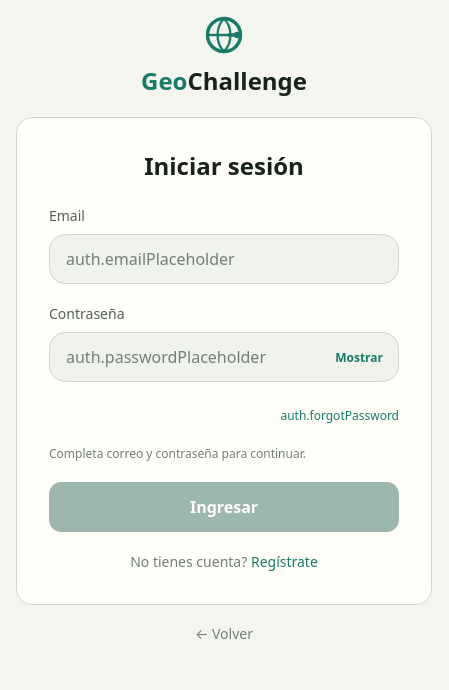
Test: LoginPage › limpia el mensaje de error cuando el usuario corrige un campo
This screenshot has width=449, height=690.
Type "test@example.com" into the field labelled "Email" at (224, 259), box [49,234,399,284]
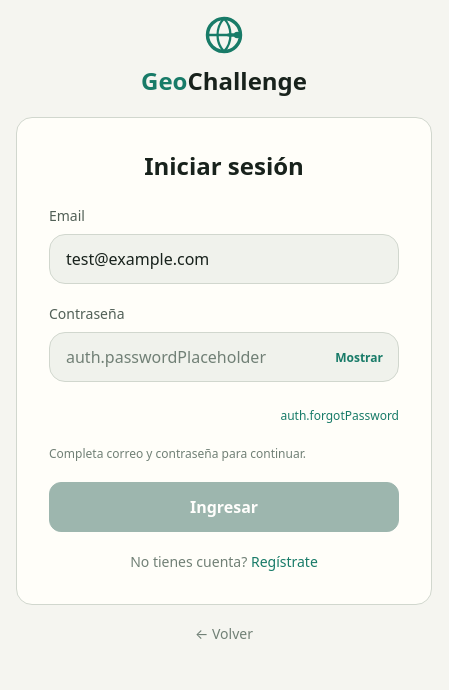
Type "secret123" into the password field labelled "Contraseña" at (224, 357), box [49,332,399,382]
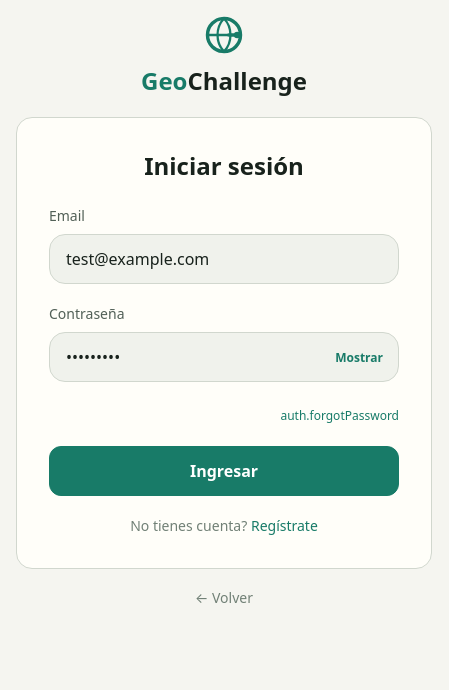
Click the button "Ingresar" at (224, 471), box [49,446,399,496]
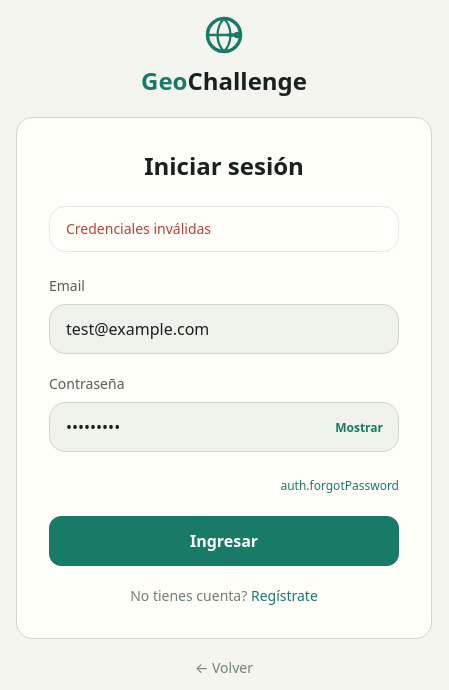
Now the text "Credenciales inválidas" is shown, box [66,219,211,239]
Type "secret1234" into the password field labelled "Contraseña" at (224, 427), box [49,402,399,452]
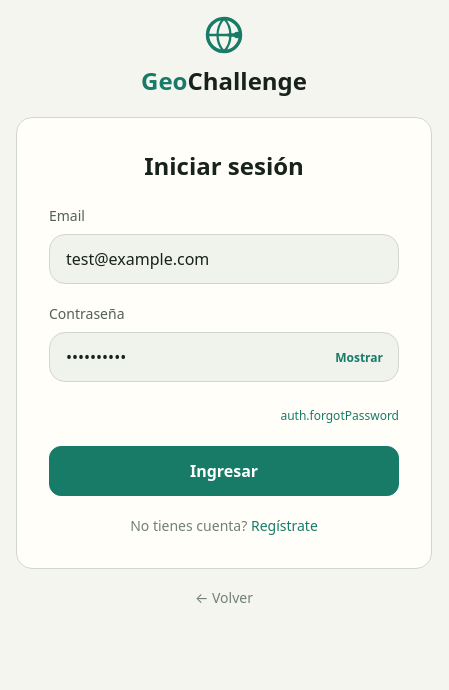
Now the text "Credenciales inválidas" is gone
